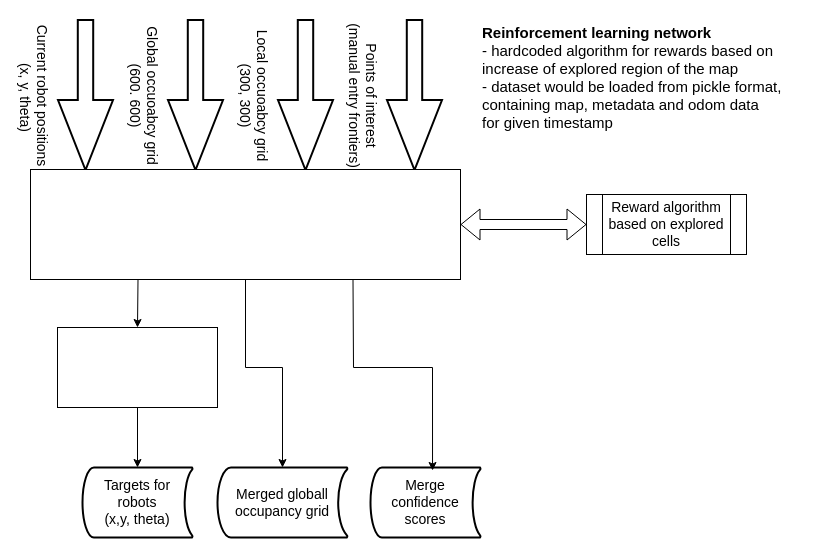
The diagram is 828 pixels wide and 555 high, and some of its shapes have lost their labels. The centre of each missing label's shape, as x and y in pixels:
"Neural network with reinforcement learning" goes at (x=245, y=224).
"Transform targets from global grid into local coordinate system" goes at (x=137, y=367).
